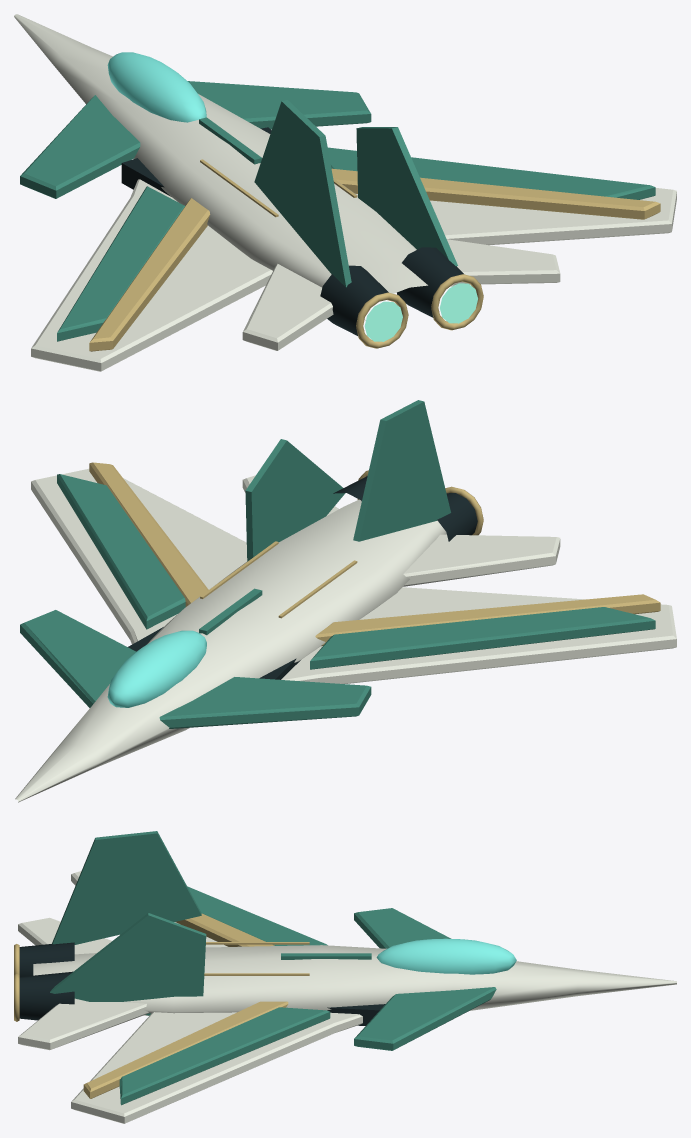
File: qingluan.glb
The picture shows the model from 3 angles, top to bottom: view 1: azimuth 30°, elevation 25°; view 2: azimuth 150°, elevation 25°; view 3: azimuth 270°, elevation 25°; orthographic projection. The views are drawn at different scales.
Parts seen in each view (by area): view 1: ceramic-airframe, celadon-flight-surfaces, champagne-trim, engine-core (×2), titanium-engines, canopy; view 2: ceramic-airframe, celadon-flight-surfaces, champagne-trim, engine-core, titanium-engines; view 3: celadon-flight-surfaces, ceramic-airframe, champagne-trim, engine-core, titanium-engines.
Boxes of the visible parts, <box> form: ceramic-airframe: <box>14,14,676,371</box>; celadon-flight-surfaces: <box>20,81,655,341</box>; champagne-trim: <box>89,159,660,351</box>; engine-core (×2): <box>107,52,477,323</box>; titanium-engines: <box>121,127,463,335</box>; canopy: <box>364,301,402,341</box>; ceramic-airframe: <box>15,468,676,802</box>; celadon-flight-surfaces: <box>20,400,655,728</box>; champagne-trim: <box>89,462,660,646</box>; engine-core: <box>107,630,206,707</box>; titanium-engines: <box>128,476,477,679</box>; celadon-flight-surfaces: <box>50,831,496,1105</box>; ceramic-airframe: <box>18,871,676,1123</box>; champagne-trim: <box>14,913,309,1098</box>; engine-core: <box>376,938,516,974</box>; titanium-engines: <box>19,942,385,1025</box>.
Bounding box in the file's own units: 7.39 × 2.1 × 8.03.
